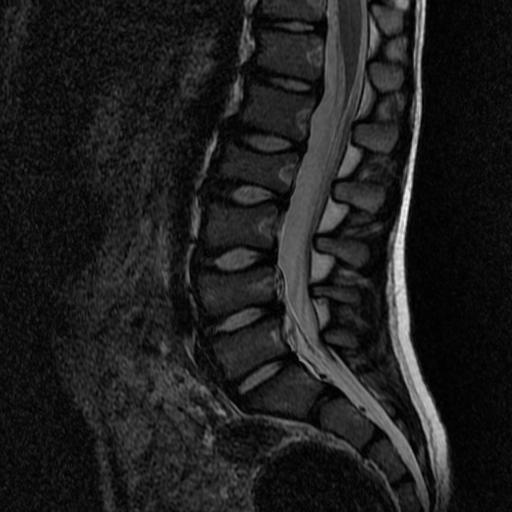D1: (222, 115, 307, 156)
